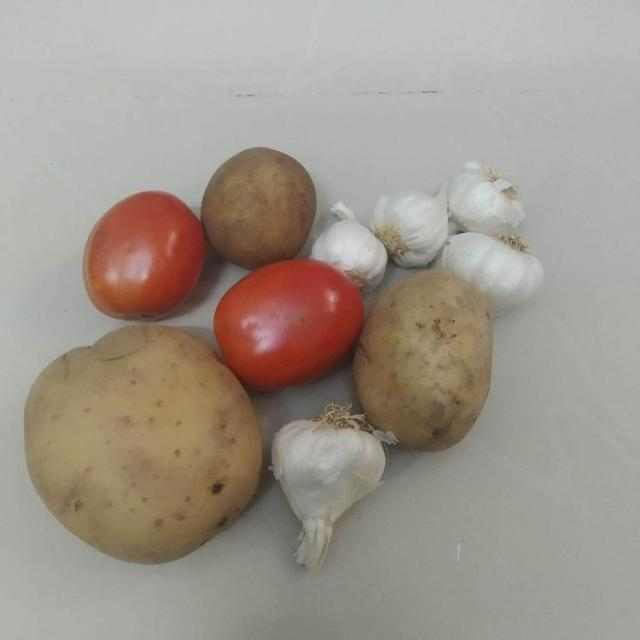Organik: (12, 335, 279, 572), (363, 272, 494, 447), (211, 262, 380, 390), (278, 402, 393, 576), (195, 126, 330, 271), (68, 189, 205, 328), (456, 231, 552, 307), (367, 182, 449, 266), (448, 164, 519, 232)
